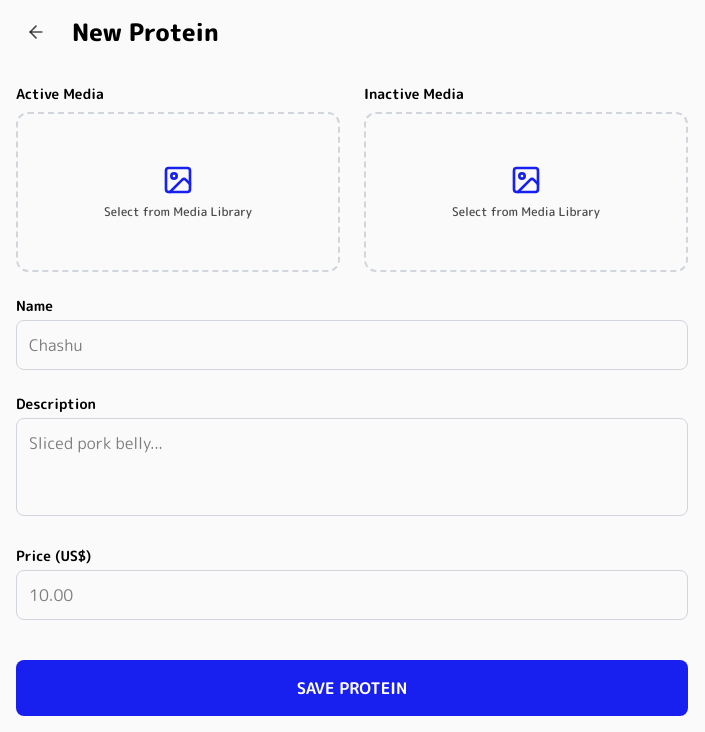
Test case: NewProteinPage › should display validation errors when submitting an empty form
The width and height of the screenshot is (705, 732).
Click the button "SAVE PROTEIN": {"x": 352, "y": 688} [16,660,688,716]
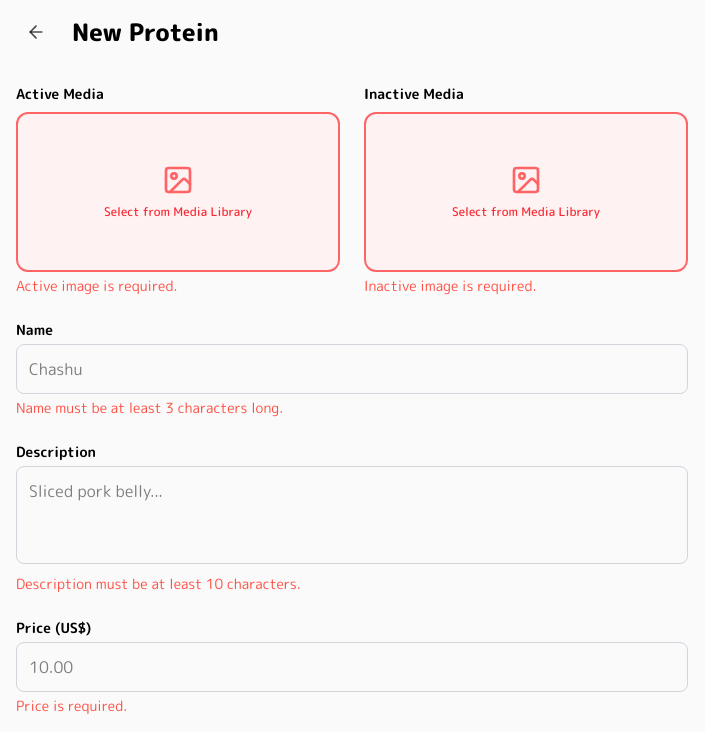
Check: the text "Active image is required." is shown, box [16,276,178,295]
Check: the text "Inactive image is required." is shown, box [364,276,536,295]
Check: the text "Name must be at least 3 characters long." is shown, box [16,398,283,417]
